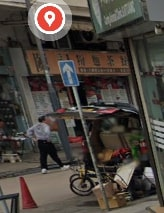One Way Traffic: (57, 60, 80, 88)
